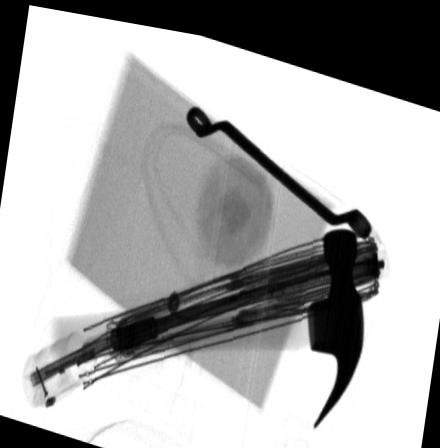Hammer: (48, 217, 364, 418)
Wrench: (186, 98, 372, 225)
